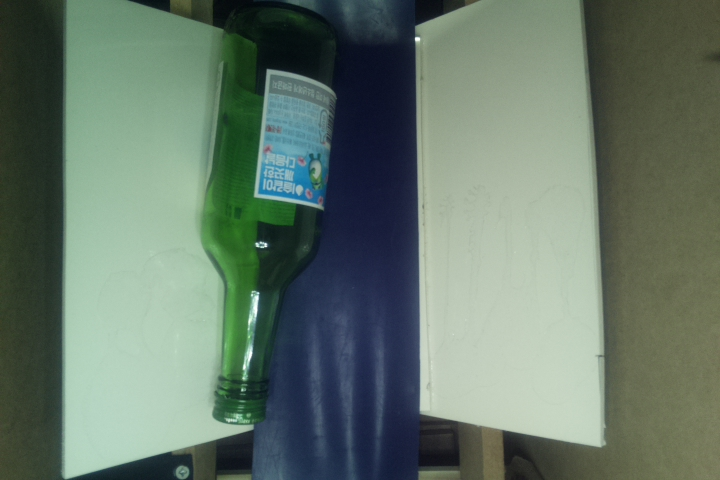soju: (200, 3, 341, 424)
